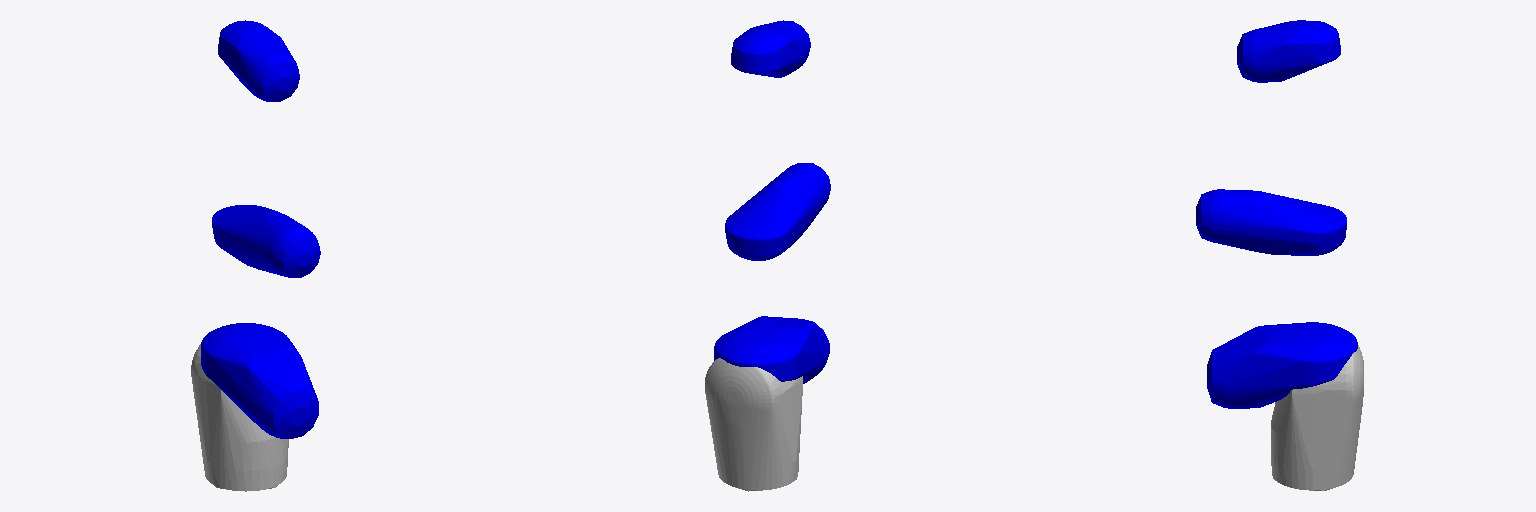
The robot description file, URDF, robot "motoman_sia10f":
<?xml version="1.0" ?>
<!-- =================================================================================== -->
<!-- |    This document was autogenerated by xacro from sia10f.xacro                   | -->
<!-- |    EDITING THIS FILE BY HAND IS NOT RECOMMENDED                                 | -->
<!-- =================================================================================== -->
<robot name="motoman_sia10f" xmlns:xacro="http://ros.org/wiki/xacro">
  <link name="base_link">
    <visual>
      <geometry>
        <mesh filename="package://motoman_sia10f_support/meshes/sia10f/visual/motoman_base.stl"/>
      </geometry>
      <material name="blue">
        <color rgba="0 0 1 1"/>
      </material>
    </visual>
    <collision>
      <geometry>
        <mesh filename="package://motoman_sia10f_support/meshes/sia10f/collision/motoman_base.stl"/>
      </geometry>
      <material name="yellow">
        <color rgba="0 1 1 1"/>
      </material>
    </collision>
  </link>
  <link name="link_s">
    <visual>
      <geometry>
        <mesh filename="package://motoman_sia10f_support/meshes/sia10f/visual/motoman_axis_s.stl"/>
      </geometry>
      <material name="silver">
        <color rgba="0.8 0.8 0.8 1"/>
      </material>
    </visual>
    <collision>
      <geometry>
        <mesh filename="package://motoman_sia10f_support/meshes/sia10f/collision/motoman_axis_s.stl"/>
      </geometry>
      <material name="yellow"/>
    </collision>
  </link>
  <link name="link_l">
    <visual>
      <origin rpy="1.57 3.1416 0" xyz="0 0 0"/>
      <geometry>
        <mesh filename="package://motoman_sia10f_support/meshes/sia10f/visual/motoman_axis_l.stl"/>
      </geometry>
      <material name="blue"/>
    </visual>
    <collision>
      <origin rpy="1.57 3.1416 0" xyz="0 0 0"/>
      <geometry>
        <mesh filename="package://motoman_sia10f_support/meshes/sia10f/collision/motoman_axis_l.stl"/>
      </geometry>
      <material name="yellow"/>
    </collision>
  </link>
  <link name="link_e">
    <visual>
      <origin rpy="0 0 3.1415" xyz="0 0 0"/>
      <geometry>
        <mesh filename="package://motoman_sia10f_support/meshes/sia10f/visual/motoman_axis_e.stl"/>
      </geometry>
      <material name="silver"/>
    </visual>
    <collision>
      <origin rpy="0 0 3.1415" xyz="0 0 0"/>
      <geometry>
        <mesh filename="package://motoman_sia10f_support/meshes/sia10f/collision/motoman_axis_e.stl"/>
      </geometry>
      <material name="yellow"/>
    </collision>
  </link>
  <link name="link_u">
    <visual>
      <origin rpy="1.57 -3.1415 0" xyz="0 0 0"/>
      <geometry>
        <mesh filename="package://motoman_sia10f_support/meshes/sia10f/visual/motoman_axis_u.stl"/>
      </geometry>
      <material name="blue"/>
    </visual>
    <collision>
      <origin rpy="1.57 -3.1415 0" xyz="0 0 0"/>
      <geometry>
        <mesh filename="package://motoman_sia10f_support/meshes/sia10f/collision/motoman_axis_u.stl"/>
      </geometry>
      <material name="yellow"/>
    </collision>
  </link>
  <link name="link_r">
    <visual>
      <origin rpy="0 0 3.1416" xyz="0 0 0"/>
      <geometry>
        <mesh filename="package://motoman_sia10f_support/meshes/sia10f/visual/motoman_axis_r.stl"/>
      </geometry>
      <material name="silver"/>
    </visual>
    <collision>
      <origin rpy="0 0 3.1416" xyz="0 0 0"/>
      <geometry>
        <mesh filename="package://motoman_sia10f_support/meshes/sia10f/collision/motoman_axis_r.stl"/>
      </geometry>
      <material name="yellow"/>
    </collision>
  </link>
  <link name="link_b">
    <visual>
      <origin rpy="-1.57 0 3.1416" xyz="0 0 0"/>
      <geometry>
        <mesh filename="package://motoman_sia10f_support/meshes/sia10f/visual/motoman_axis_b.stl"/>
      </geometry>
      <material name="blue"/>
    </visual>
    <collision>
      <origin rpy="-1.57 0 3.1416" xyz="0 0 0"/>
      <geometry>
        <mesh filename="package://motoman_sia10f_support/meshes/sia10f/collision/motoman_axis_b.stl"/>
      </geometry>
      <material name="yellow"/>
    </collision>
  </link>
  <link name="link_t">
    <visual>
      <geometry>
        <mesh filename="package://motoman_sia10f_support/meshes/sia10f/visual/motoman_axis_t.stl"/>
      </geometry>
      <material name="silver"/>
    </visual>
    <collision>
      <geometry>
        <mesh filename="package://motoman_sia10f_support/meshes/sia10f/collision/motoman_axis_t.stl"/>
      </geometry>
      <material name="yellow"/>
    </collision>
  </link>
  <link name="link_end"/>
  <joint name="joint_s" type="revolute">
    <parent link="base_link"/>
    <child link="link_s"/>
    <origin rpy="0 0 0" xyz="0 0 0.36"/>
    <axis xyz="0 0 1"/>
    <limit effort="100" lower="-3.1415" upper="3.1415" velocity="2.9670" />
  </joint>
  <joint name="joint_l" type="revolute">
    <parent link="link_s"/>
    <child link="link_l"/>
    <origin rpy="0 0 0" xyz="0 0 0"/>
    <axis xyz="0 1 0"/>
    <limit effort="100" lower="-1.9198" upper="1.9198" velocity="2.9670" />
  </joint>
  <joint name="joint_e" type="revolute">
    <parent link="link_l"/>
    <child link="link_e"/>
    <origin rpy="0 0 0" xyz="0 0 0.36"/>
    <axis xyz="0 0 1"/>
    <limit effort="100" lower="-2.9670" upper="2.9670" velocity="2.9670" />
  </joint>
  <joint name="joint_u" type="revolute">
    <parent link="link_e"/>
    <child link="link_u"/>
    <origin rpy="0 0 0" xyz="0 0 0"/>
    <axis xyz="0 -1 0"/>
    <limit effort="100" lower="-2.3561" upper="2.3561" velocity="2.9670" />
  </joint>
  <joint name="joint_r" type="revolute">
    <parent link="link_u"/>
    <child link="link_r"/>
    <origin rpy="0 0 0" xyz="0 0 0.360"/>
    <axis xyz="0 0 -1"/>
    <limit effort="100" lower="-3.1415" upper="3.1415" velocity="3.4906" />
  </joint>
  <joint name="joint_b" type="revolute">
    <parent link="link_r"/>
    <child link="link_b"/>
    <origin rpy="0 0 0" xyz="0 0 0"/>
    <axis xyz="0 -1 0"/>
    <limit effort="100" lower="-1.9198" upper="1.9198" velocity="3.4906" />
  </joint>
  <joint name="joint_t" type="revolute">
    <parent link="link_b"/>
    <child link="link_t"/>
    <origin rpy="0 0 0" xyz="0 0 0.155"/>
    <axis xyz="0 0 -1"/>
    <limit effort="100" lower="-3.1415" upper="3.1415" velocity="6.9813" />
  </joint>
  <joint name="end_effector" type="fixed">
    <parent link="link_t"/>
    <child link="link_end"/>
    <origin rpy="0 0 0" xyz="0 0 0.155"/>
  </joint>
  <link name="base"/>
  <joint name="link_l-base" type="fixed">
    <origin rpy="0 0 0" xyz="0 0 0"/>
    <parent link="link_l"/>
    <child link="base"/>
  </joint>
</robot>

--- What the picture shows (computed from the rendered views, not written in the file) ---
Views: 3 orthographic renders of the robot side by side, from view 1: azimuth 30°, elevation 25°; view 2: azimuth 150°, elevation 25°; view 3: azimuth 270°, elevation 25°.
Robot: motoman_sia10f — 10 links, 9 joints (7 revolute, 2 fixed); root link base_link; default pose: all joints at 0.
Visible links, largest first — view 1: link_l, link_s, link_u, link_b; view 2: link_s, link_u, link_l, link_b; view 3: link_l, link_s, link_u, link_b.
Link boxes in pixels (bbox=[...]): link_l: bbox=[201, 323, 318, 438]; link_s: bbox=[191, 344, 288, 491]; link_u: bbox=[212, 205, 320, 277]; link_b: bbox=[218, 20, 299, 101]; link_s: bbox=[705, 358, 802, 491]; link_u: bbox=[725, 163, 830, 260]; link_l: bbox=[714, 316, 829, 383]; link_b: bbox=[731, 20, 810, 77]; link_l: bbox=[1207, 322, 1357, 408]; link_s: bbox=[1271, 345, 1363, 490]; link_u: bbox=[1196, 189, 1346, 255]; link_b: bbox=[1237, 20, 1340, 82].
Size in the robot's own frame: 0.183 by 0.3438 by 1.02 metres.
Meshes: 8 distinct files referenced, 4 mesh visuals loaded (4 binary STL); not drawn: 4 (reference not matched to a file when rendering).
